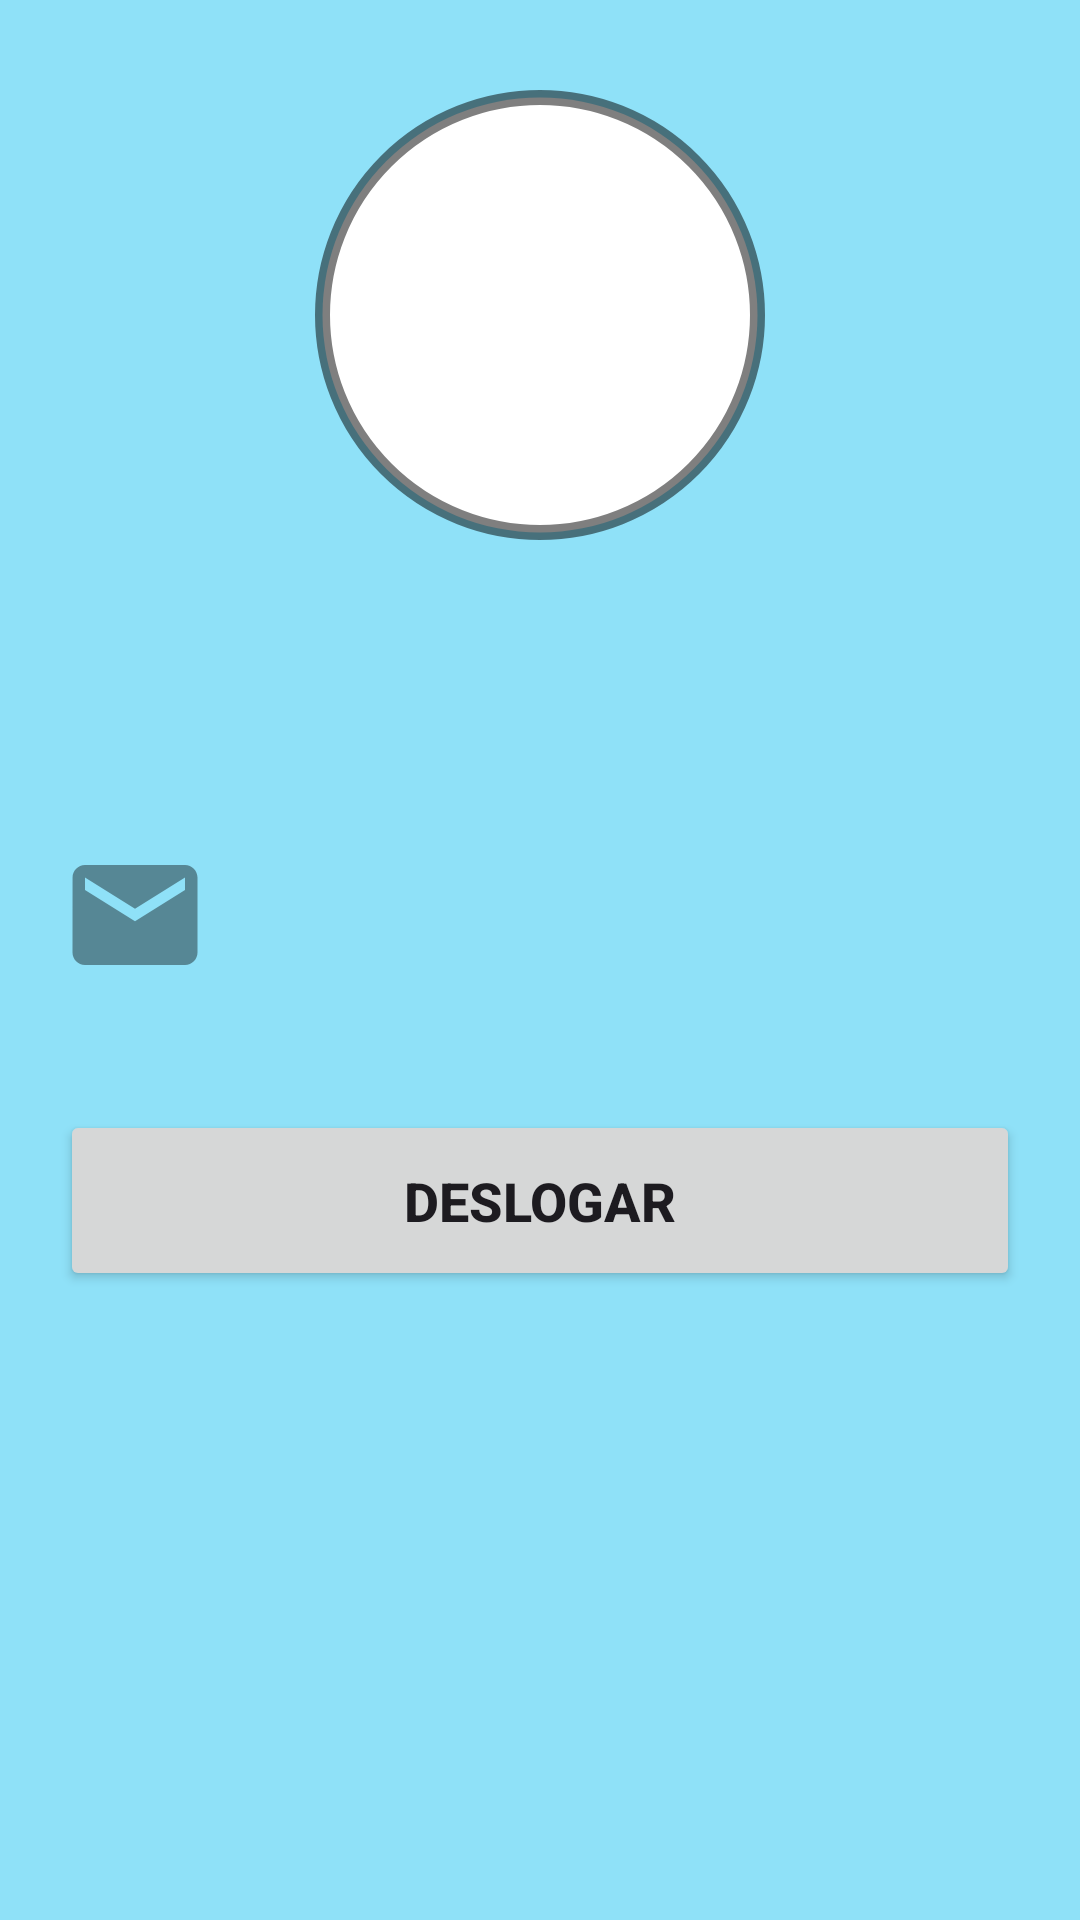

Named icons in this screenshot (1080x1920) and their bounding boxes, [x1=x1, y1=y1, x2=x2, y2=y2]:
email: [x1=72, y1=865, x2=198, y2=965]
